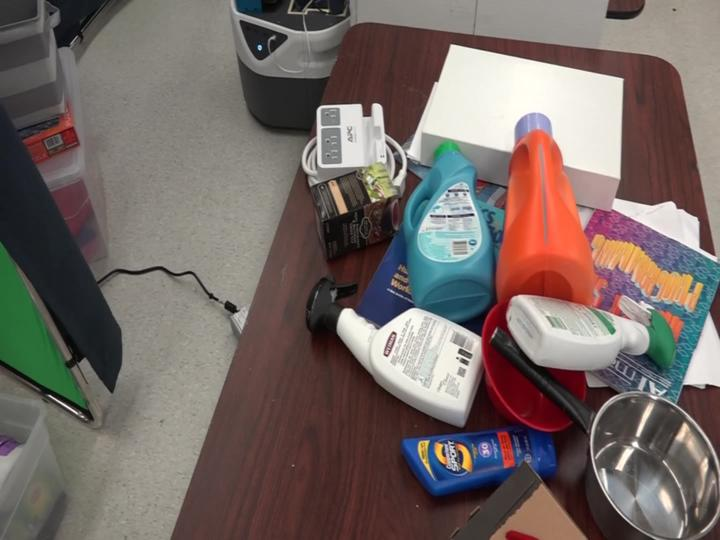tide: (483, 98, 612, 325)
